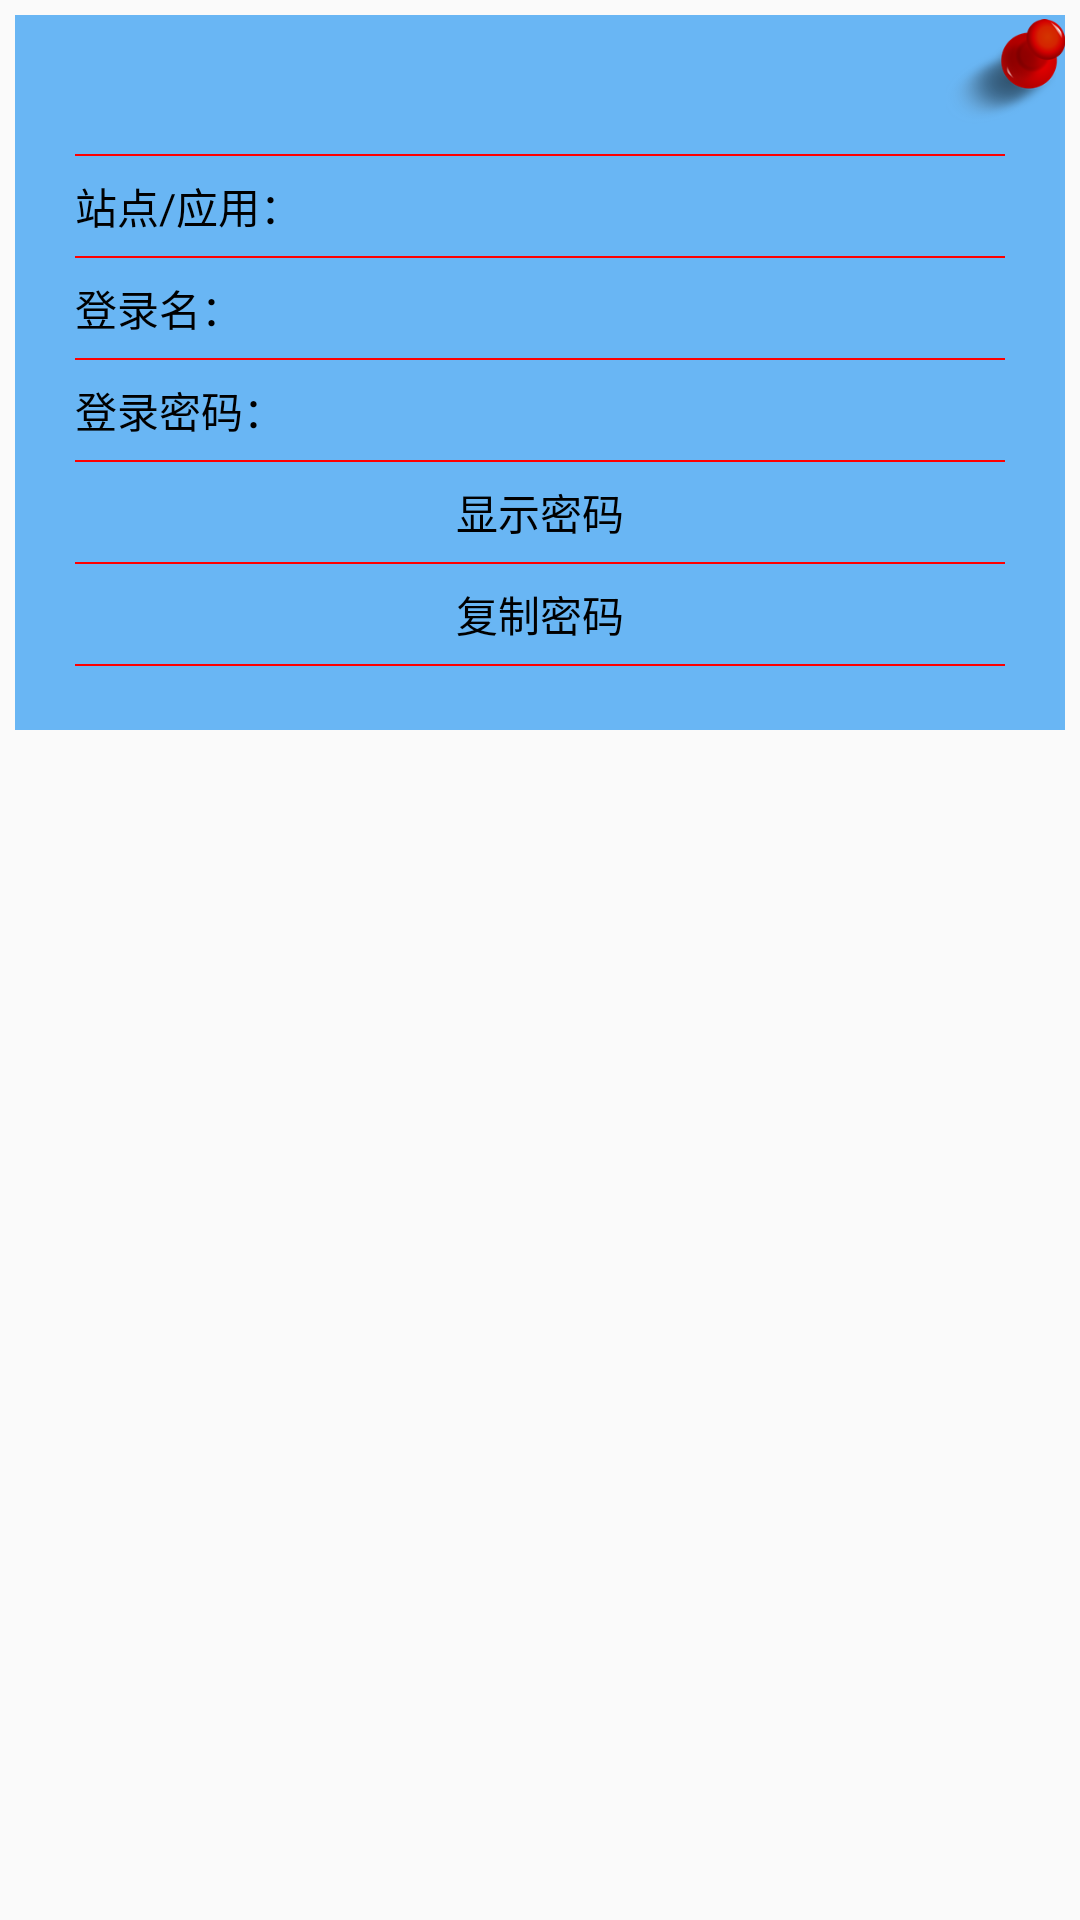

Screen size 1080w x 1920h. Icon name, then its center in pixels as (x,y):
pushpin: (1015,64)
